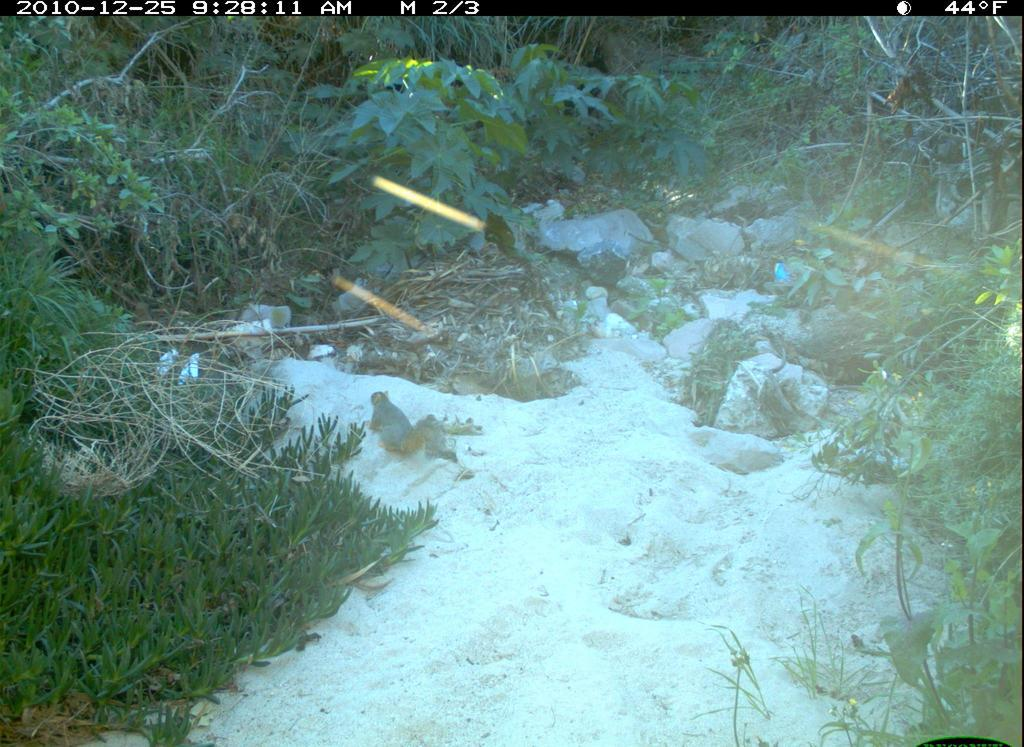squirrel: (359, 383, 467, 478)
